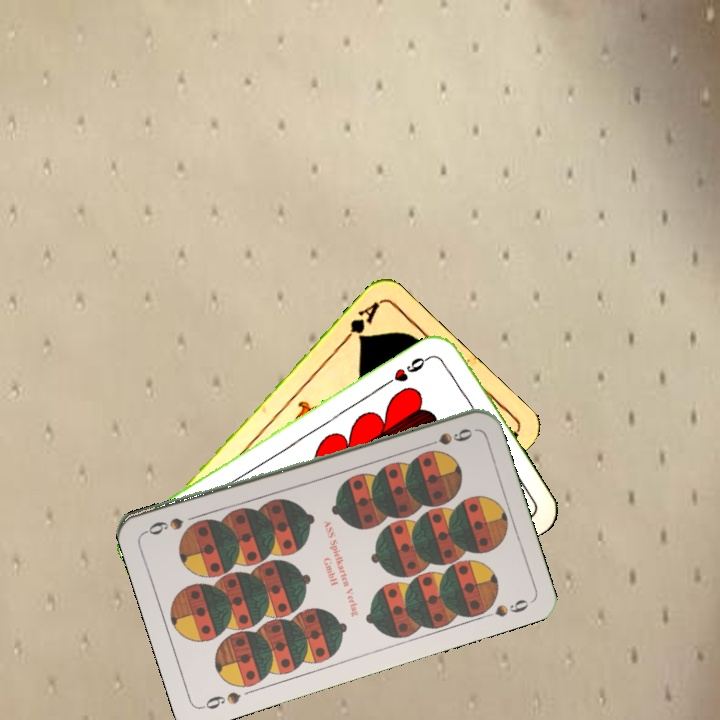GA: (338, 297, 383, 347)
H9: (383, 350, 436, 387)
S9: (418, 424, 475, 451), (197, 687, 244, 712)
